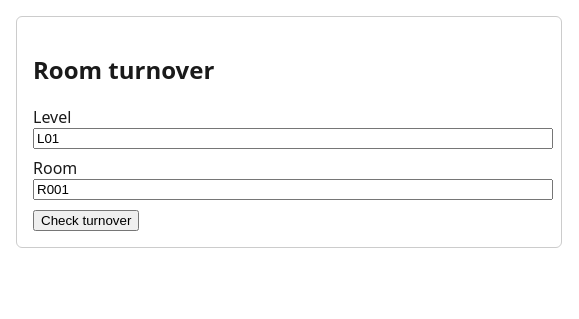
it: TurnoverPanel › shows an error message when the request fails
This screenshot has width=579, height=319.
Click the button "Check turnover": (86, 220) [33,210,139,231]
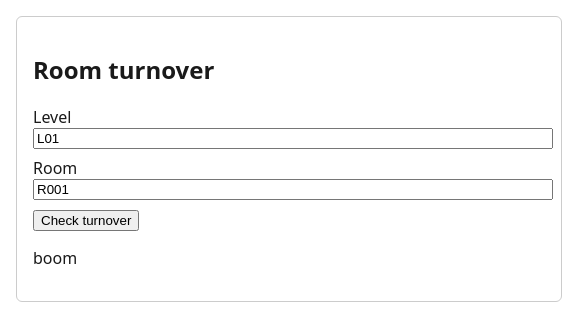
Expected: the message "boom" is shown, [33,247,77,269]
